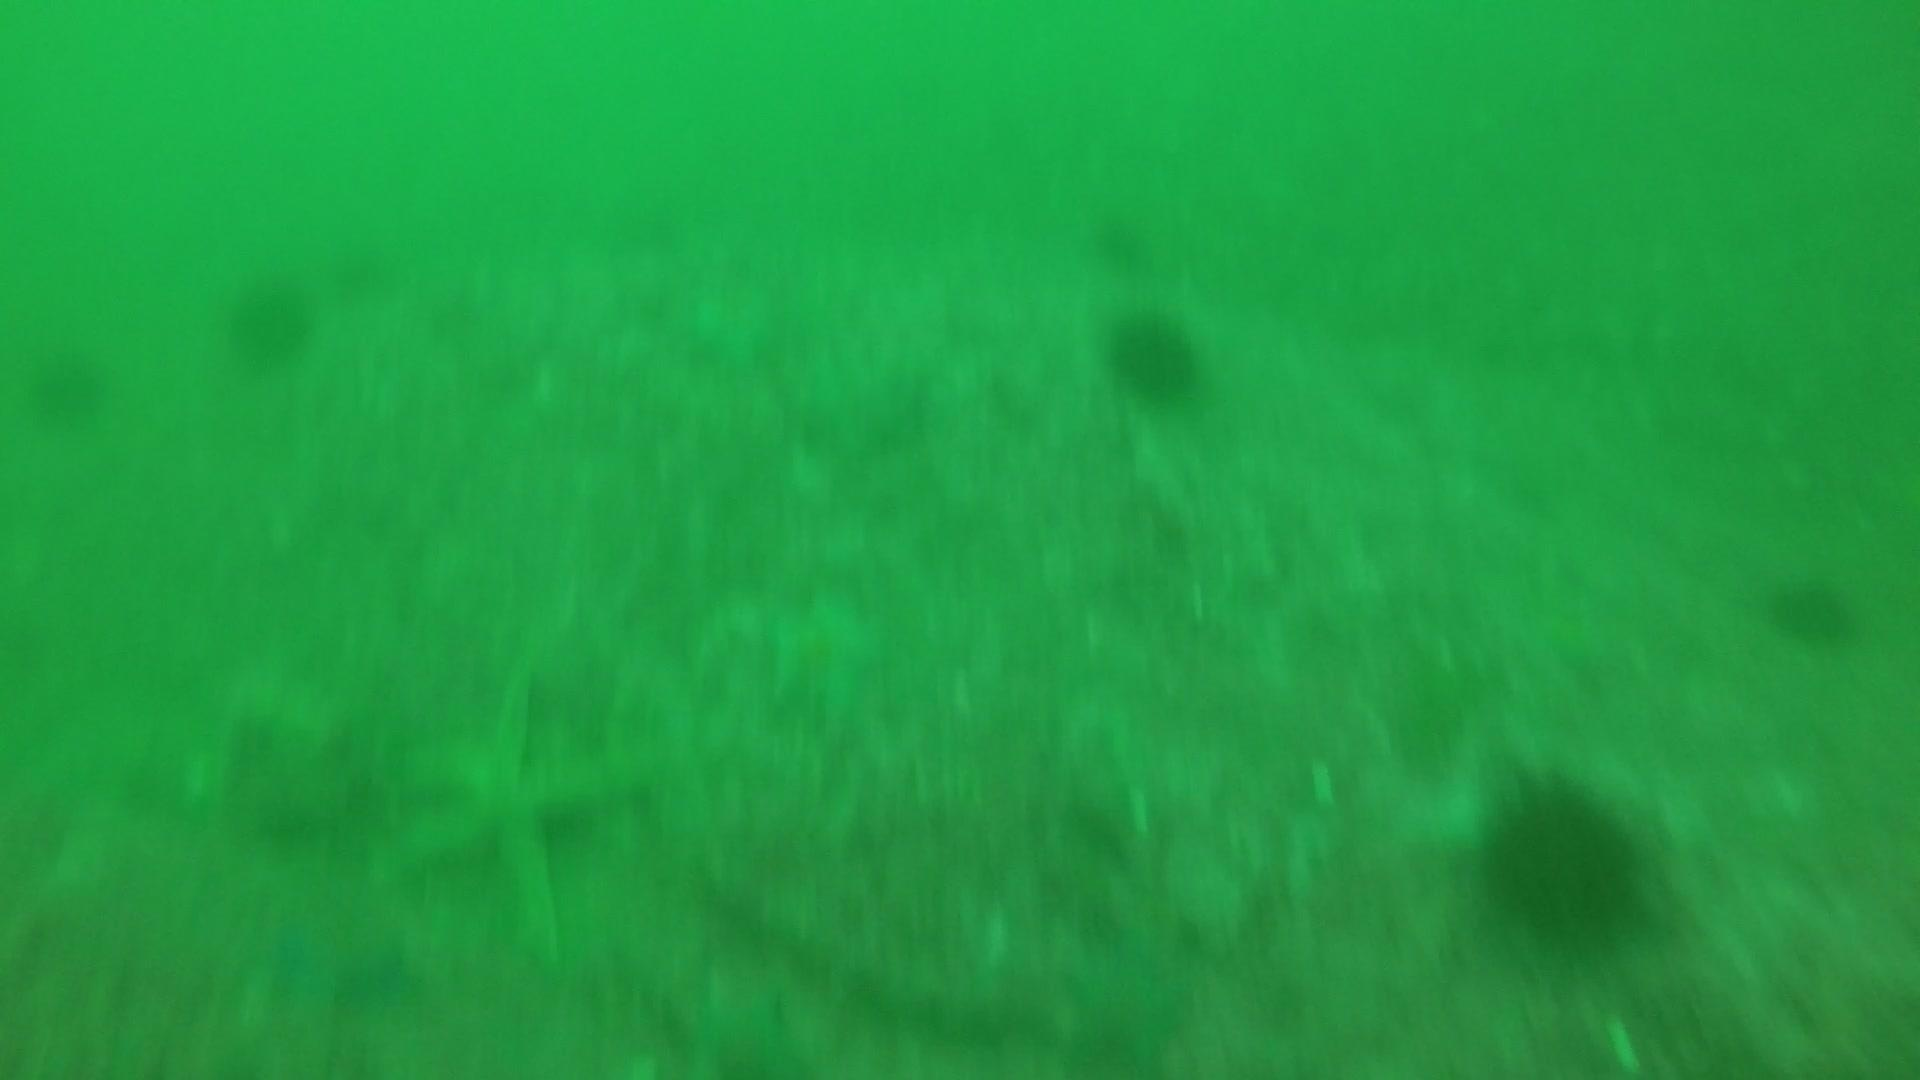echinus: (1469, 770, 1654, 949), (1098, 305, 1209, 409), (218, 265, 320, 371), (20, 339, 115, 430), (1763, 568, 1861, 650), (1084, 203, 1156, 273)
starfish: (385, 680, 636, 957), (1051, 943, 1196, 1076), (756, 585, 893, 724), (662, 967, 824, 1079), (680, 268, 787, 371)
